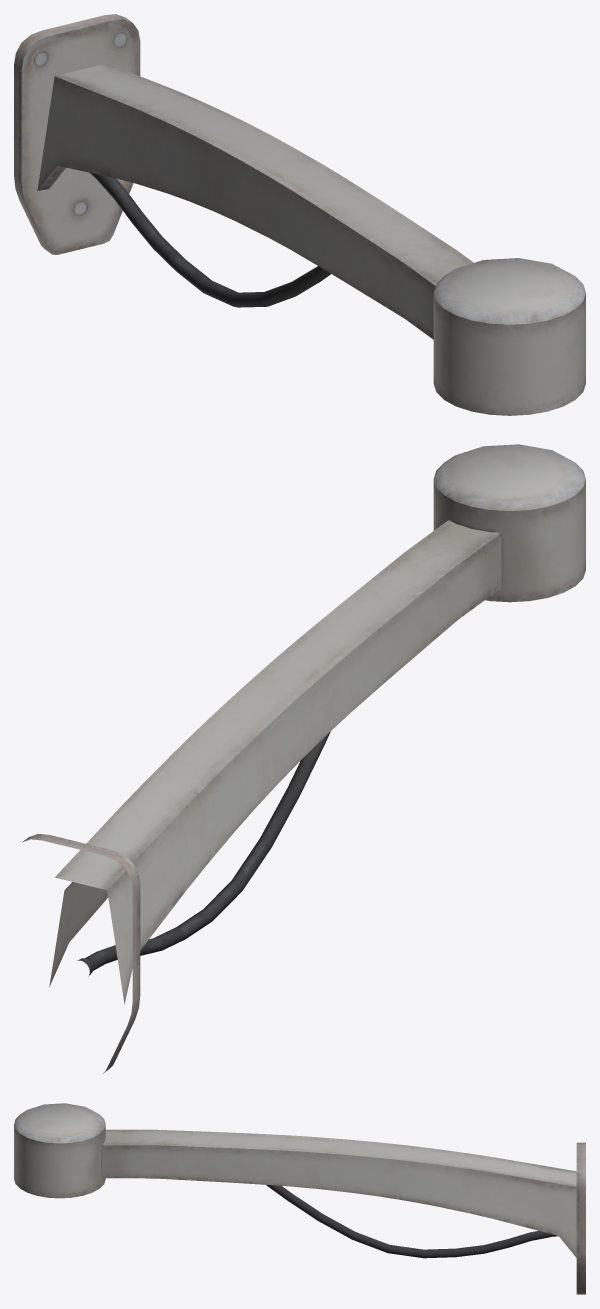
Rendered from SM_Security_Camera_01a.glb.
The picture shows the model from 3 angles, top to bottom: view 1: azimuth 30°, elevation 25°; view 2: azimuth 150°, elevation 25°; view 3: azimuth 270°, elevation 25°; orthographic projection. The views are drawn at different scales.
Visible parts, largest first — view 1: SM_Security_Camera_01a; view 2: SM_Security_Camera_01a; view 3: SM_Security_Camera_01a.
Boxes of the visible parts, x1,y1,x2,y2 form: SM_Security_Camera_01a: [14, 14, 585, 415]; SM_Security_Camera_01a: [22, 444, 585, 1073]; SM_Security_Camera_01a: [14, 1103, 585, 1294].
Bounding box in the file's own units: 0.0652 × 0.1305 × 0.4065.
1 material, 1 textured.
